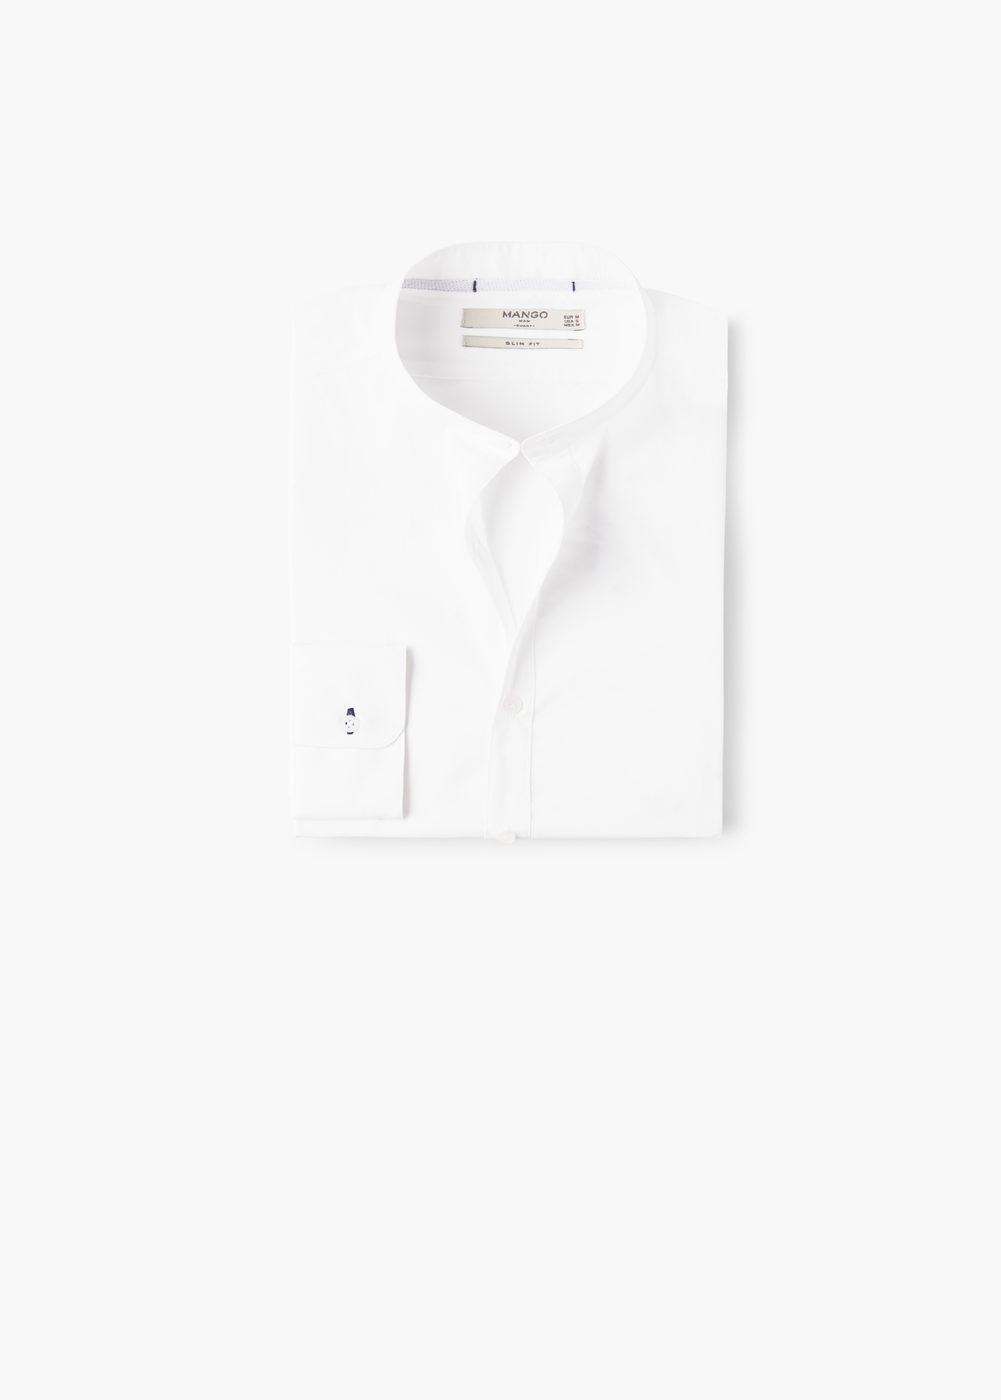teeshirt: (235, 218, 755, 855)
